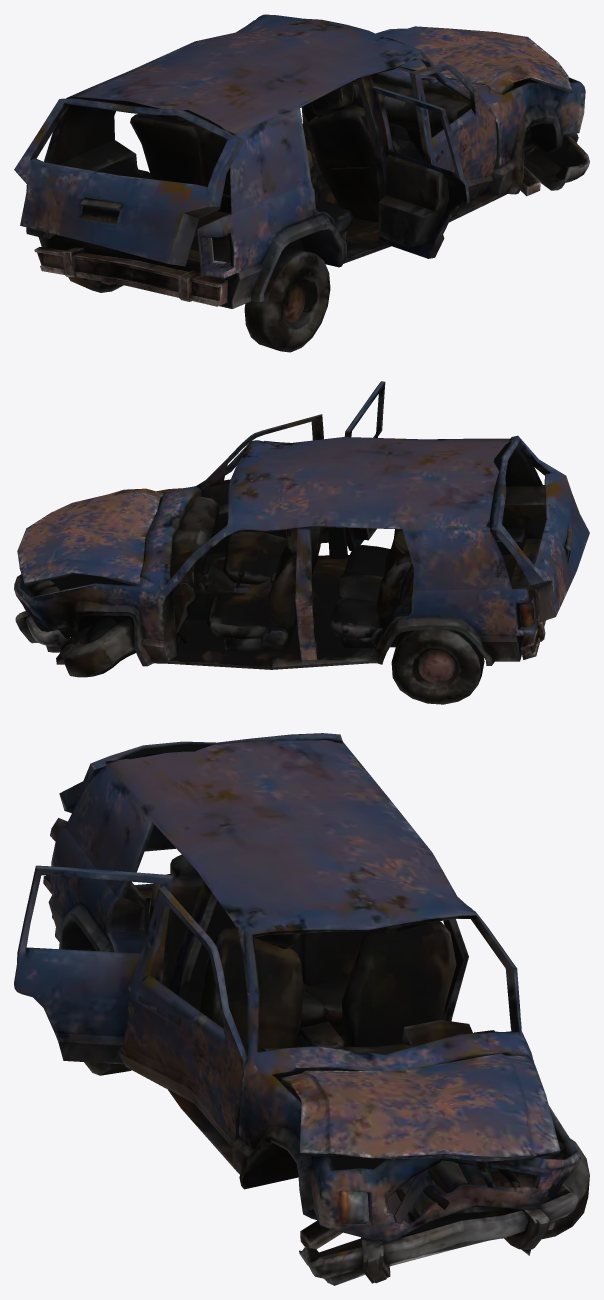
The model's file is wrecked_suv.glb.
The picture shows the model from 3 angles, top to bottom: view 1: azimuth 30°, elevation 25°; view 2: azimuth 150°, elevation 25°; view 3: azimuth 270°, elevation 25°; orthographic projection. The views are drawn at different scales.
Parts seen in each view (by area): view 1: Object_12001; view 2: Object_12001; view 3: Object_12001.
Boxes of the visible parts, x1,y1,x2,y2 form: Object_12001: (14, 14, 589, 352); Object_12001: (14, 381, 589, 704); Object_12001: (14, 733, 589, 1285).
Size of the model in its own units: 7.62 by 2.92 by 5.33.
Materials: 1 (1 with a texture image).
